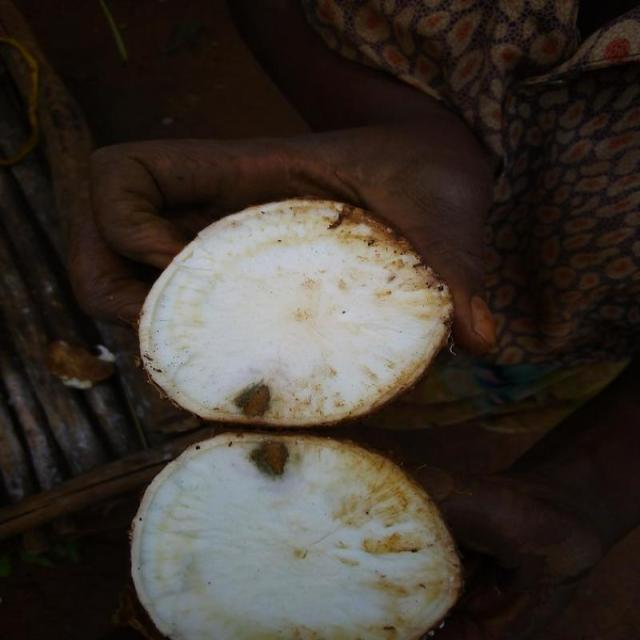cassava leaf: (137, 195, 456, 428), (129, 430, 465, 638)
